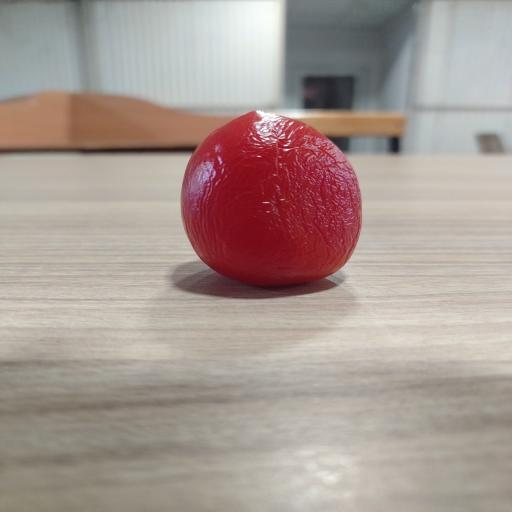spoiled: (181, 112, 361, 286)
